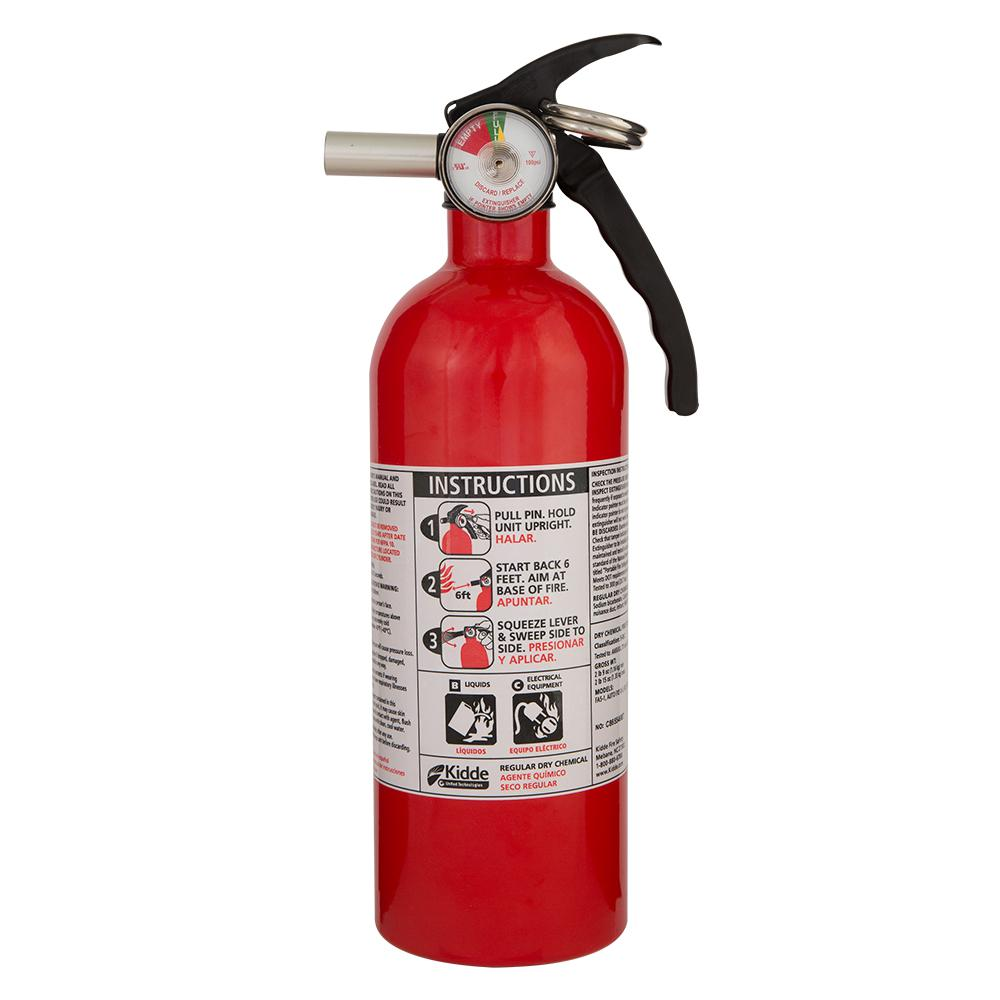fire: (322, 34, 701, 965)
